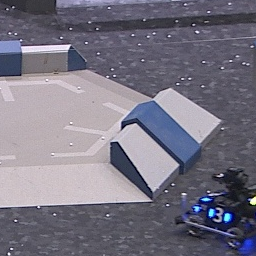Blue: (207, 207, 233, 225)
Robot: (178, 166, 256, 252)
